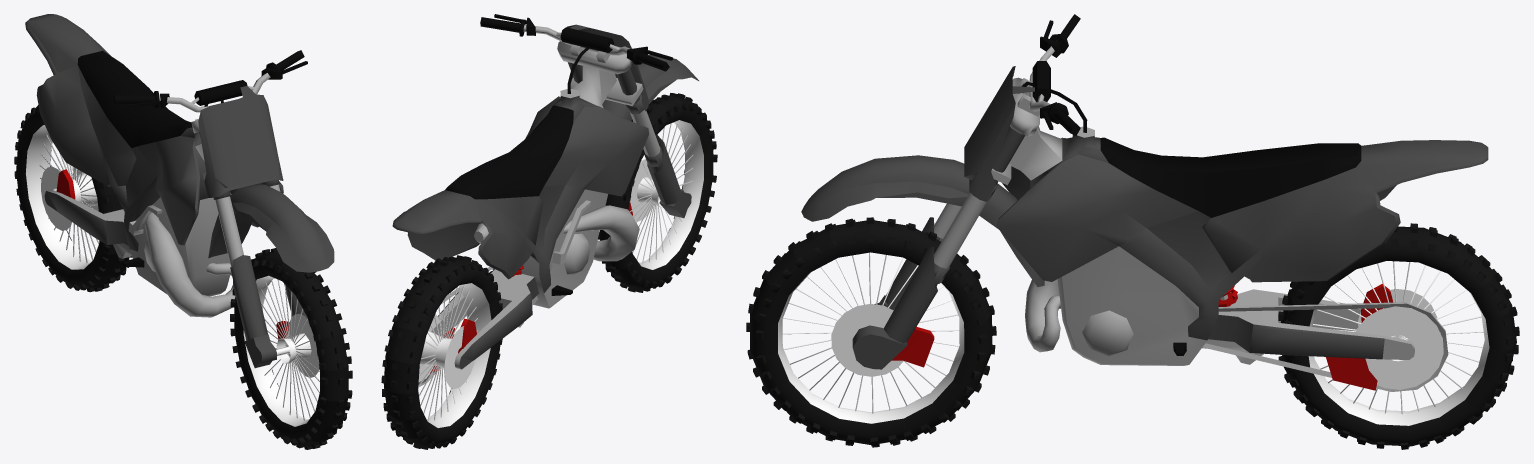
File: motorbike2.FBX
The picture shows the model from 3 angles, left to right: view 1: azimuth 30°, elevation 25°; view 2: azimuth 150°, elevation 25°; view 3: azimuth 270°, elevation 25°; orthographic projection. The views are drawn at different scales.
Parts seen in each view (by area): view 1: Body, WheelFront, Steer2, WheelBack, AxleFront, Rear, Steer1; view 2: Body, WheelBack, WheelFront, Steer2, Rear, Steer1, AxleFront; view 3: Body, WheelFront, WheelBack, Steer2, Rear, AxleFront, Steer1.
Boxes of the visible parts, left/top/right/bottom form: Body: left=25, top=14, right=283, bottom=317; WheelFront: left=230, top=248, right=352, bottom=449; Steer2: left=191, top=86, right=334, bottom=278; WheelBack: left=14, top=105, right=132, bottom=292; AxleFront: left=232, top=255, right=307, bottom=368; Rear: left=44, top=167, right=131, bottom=258; Steer1: left=113, top=50, right=307, bottom=112; Body: left=392, top=47, right=648, bottom=308; WheelBack: left=381, top=255, right=502, bottom=449; WheelFront: left=598, top=93, right=717, bottom=292; Steer2: left=557, top=24, right=698, bottom=166; Rear: left=418, top=265, right=539, bottom=386; Steer1: left=480, top=14, right=673, bottom=71; AxleFront: left=628, top=134, right=691, bottom=218; Body: left=997, top=81, right=1488, bottom=365; WheelFront: left=746, top=217, right=996, bottom=447; WheelBack: left=1278, top=223, right=1519, bottom=449; Steer2: left=801, top=66, right=1044, bottom=287; Rear: left=1202, top=284, right=1448, bottom=391; AxleFront: left=852, top=217, right=937, bottom=369; Steer1: left=1028, top=14, right=1080, bottom=135.
Bounding box in the file's own units: 9.7 × 15.13 × 28.1.
